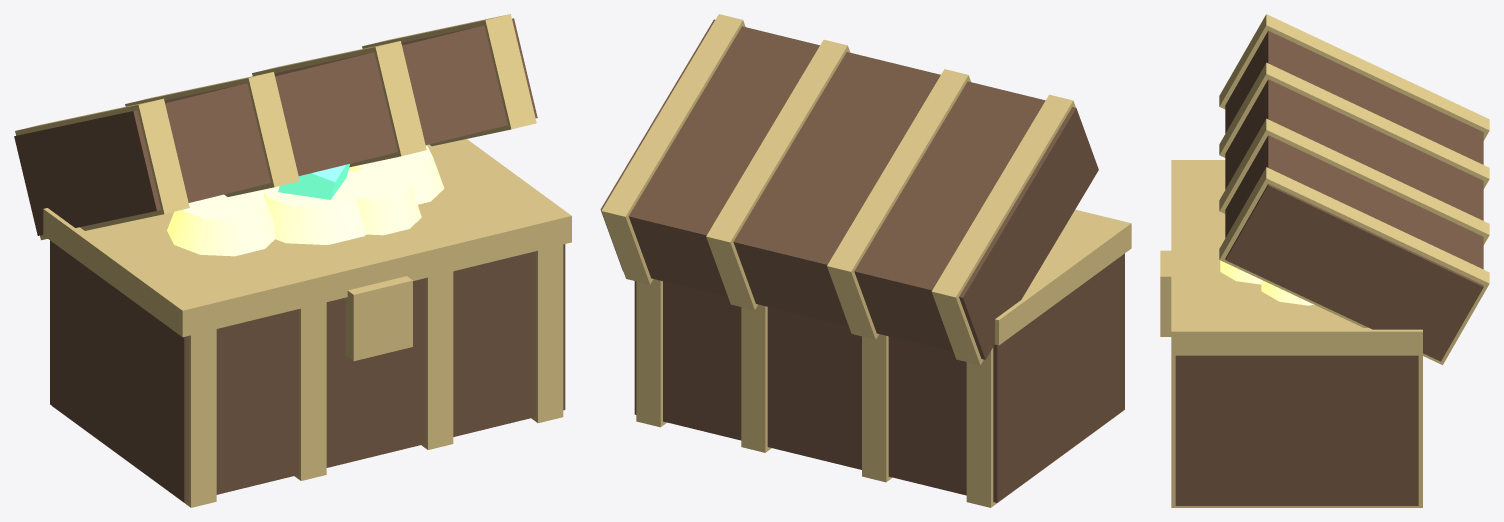
Rendered from treasure-chest.glb.
The picture shows the model from 3 angles, left to right: view 1: azimuth 30°, elevation 25°; view 2: azimuth 150°, elevation 25°; view 3: azimuth 270°, elevation 25°; orthographic projection. The views are drawn at different scales.
Visible parts, largest first — view 1: treasure-chest; view 2: treasure-chest; view 3: treasure-chest.
Boxes of the visible parts, box(x1,y1,x2,y2) form: treasure-chest: box(14, 14, 571, 507); treasure-chest: box(600, 14, 1131, 507); treasure-chest: box(1160, 14, 1489, 507).
Size of the model in its own units: 1.84 by 1.65 by 1.49.
